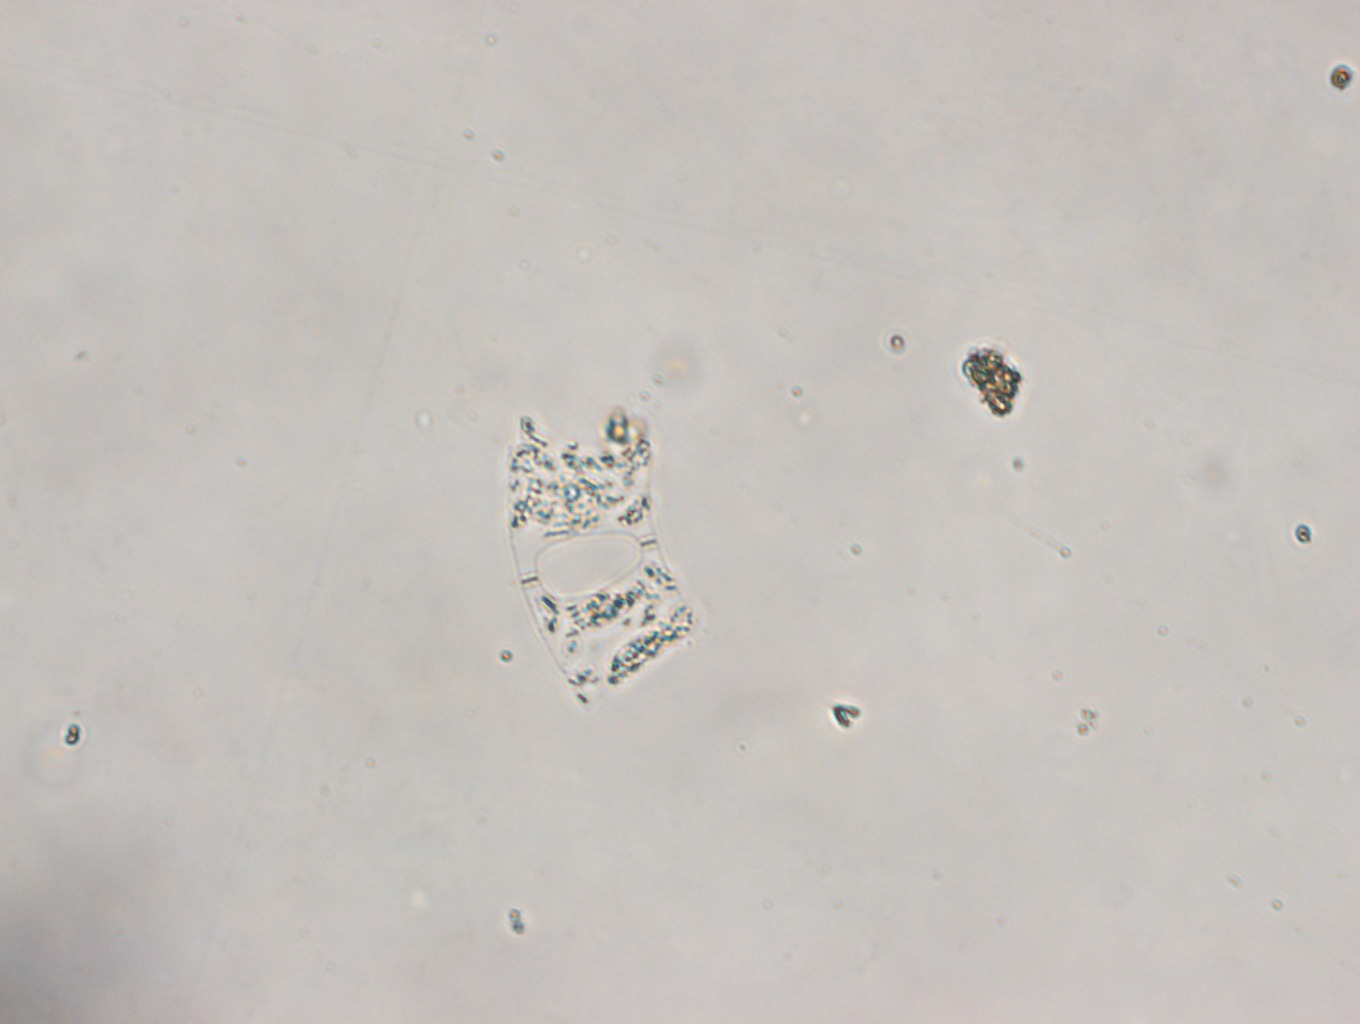eucampia: (501, 392, 704, 716)
